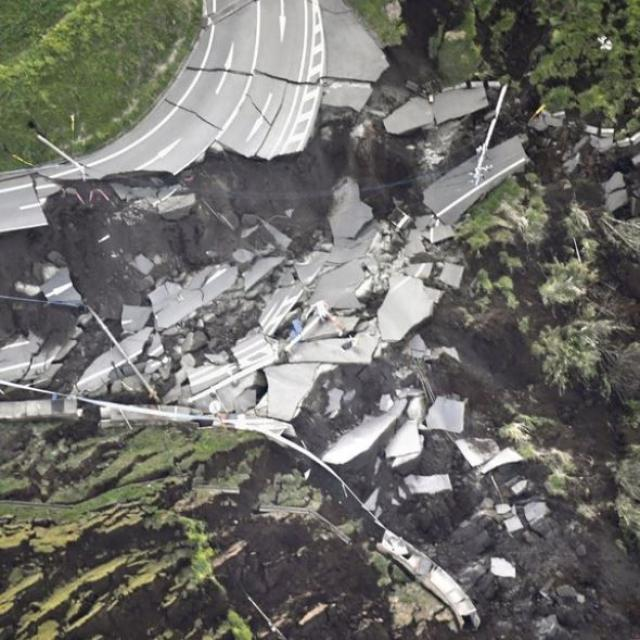collapsed_building: (0, 112, 631, 615)
